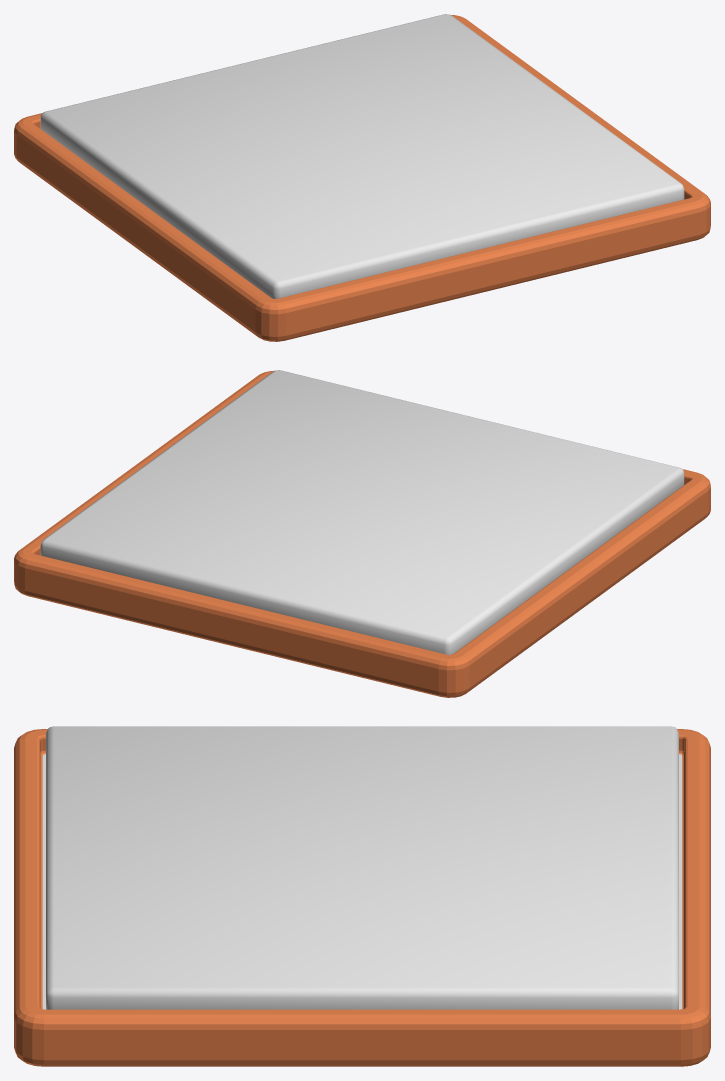
3 renders of one model, top to bottom at view 1: azimuth 30°, elevation 25°; view 2: azimuth 150°, elevation 25°; view 3: azimuth 270°, elevation 25°, orthographic. The views are drawn at different scales.
Parts seen in each view (by area): view 1: Cube; view 2: Cube; view 3: Cube.
Boxes of the visible parts, x1,y1,x2,y2 form: Cube: (14, 14, 710, 341); Cube: (14, 370, 710, 697); Cube: (14, 726, 710, 1066).
Bounding box in the file's own units: 200 × 21.03 × 200.
